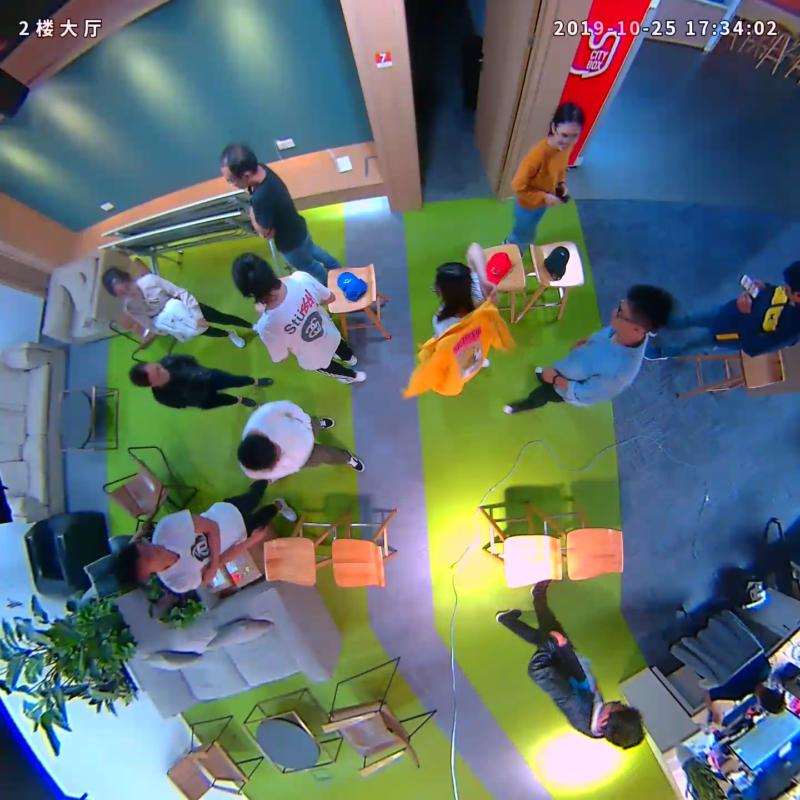head: (610, 284, 670, 339), (597, 700, 646, 750), (111, 540, 164, 583), (236, 431, 281, 472), (231, 251, 271, 297), (220, 142, 257, 189), (551, 101, 584, 150), (433, 261, 471, 298), (129, 359, 171, 388), (100, 267, 138, 299)
